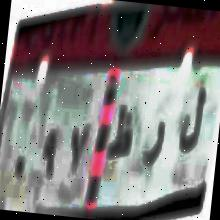0: (9, 141, 30, 186)
7: (66, 108, 94, 174)
9: (36, 118, 64, 179)
Thaa: (104, 91, 140, 164)
laam: (174, 77, 208, 161)
raa: (140, 108, 168, 172)
